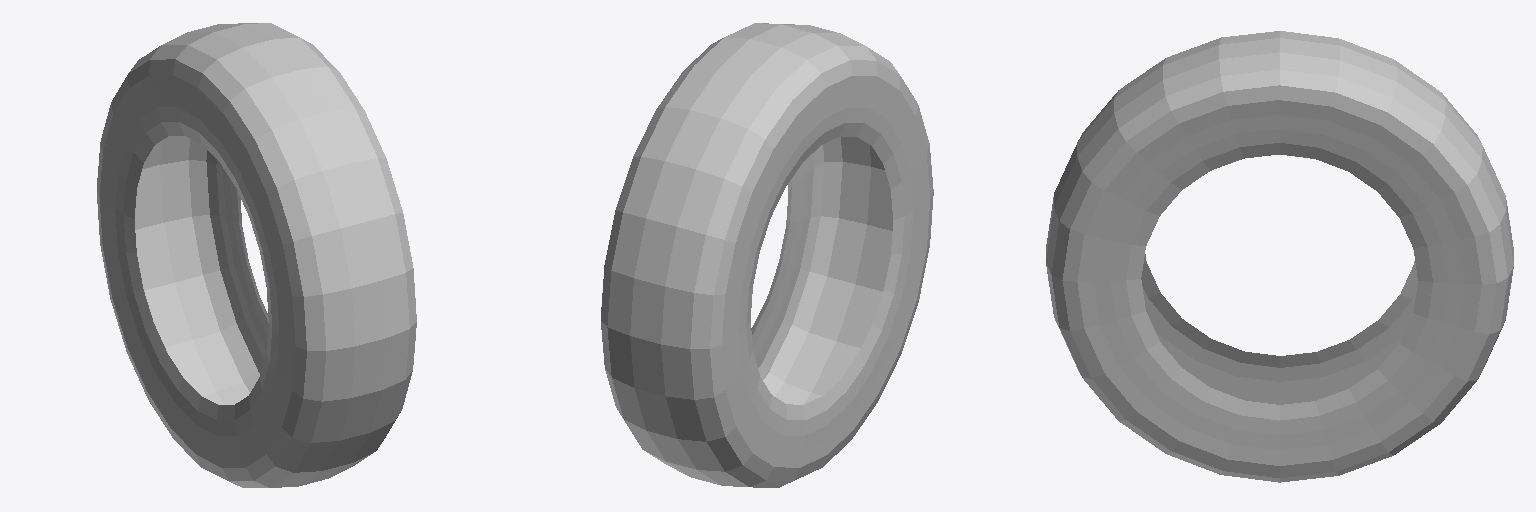
Rendered from TheRoundOne.obj.
3 renders of one model, left to right at view 1: azimuth 30°, elevation 25°; view 2: azimuth 150°, elevation 25°; view 3: azimuth 270°, elevation 25°, orthographic.
Parts seen in each view (by area): view 1: loftedSurface1; view 2: loftedSurface1; view 3: loftedSurface1.
Part boxes in pixels (x1,y1,x2,y2): loftedSurface1: (97,23,416,487); loftedSurface1: (601,23,933,487); loftedSurface1: (1046,31,1513,482).
Size of the model in its own units: 1.86 by 6.16 by 6.15.